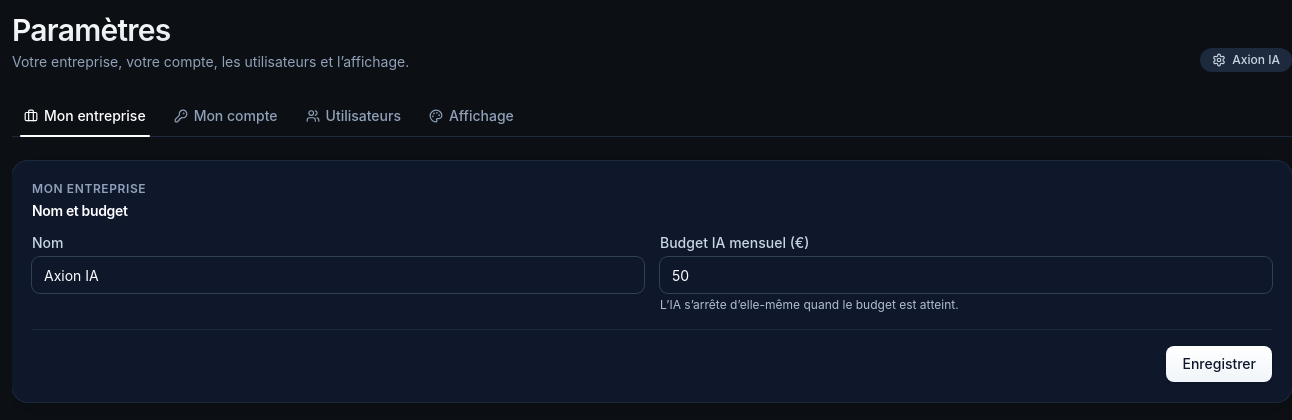
Mode clair forcé — aucun sélecteur nulle part › les Paramètres ne proposent plus de thème : onglet « Affichage », densité seule
The image size is (1292, 420).
Click the tab "Affichage".
click(471, 116)  # box [417,96,526,136]
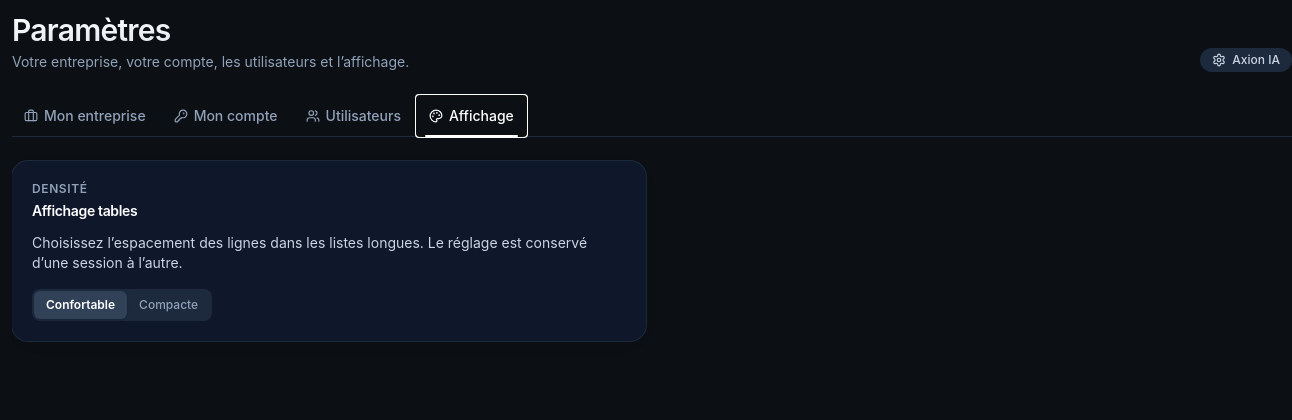
Now the button "Compacte" is shown, box [127,291,210,319]
